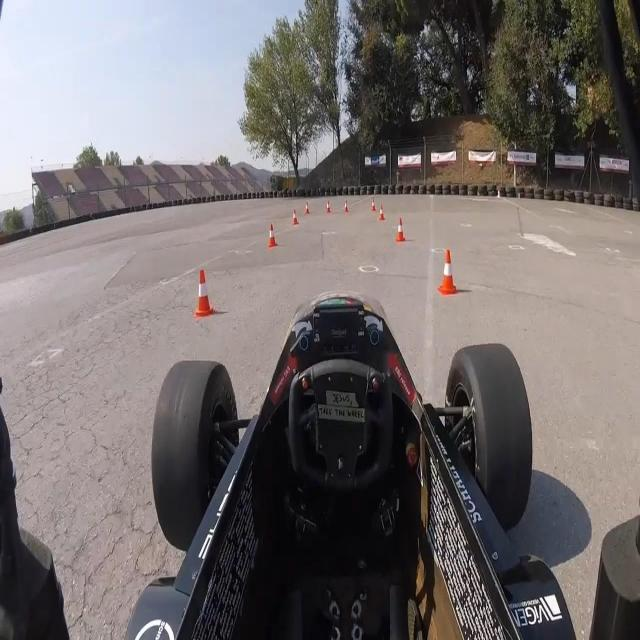orange_cone: (192, 268, 216, 319), (436, 246, 459, 297), (395, 216, 406, 243), (267, 220, 277, 248), (378, 203, 385, 221), (292, 208, 299, 225), (304, 201, 310, 215), (325, 199, 331, 213), (343, 198, 349, 212), (371, 198, 376, 212)
